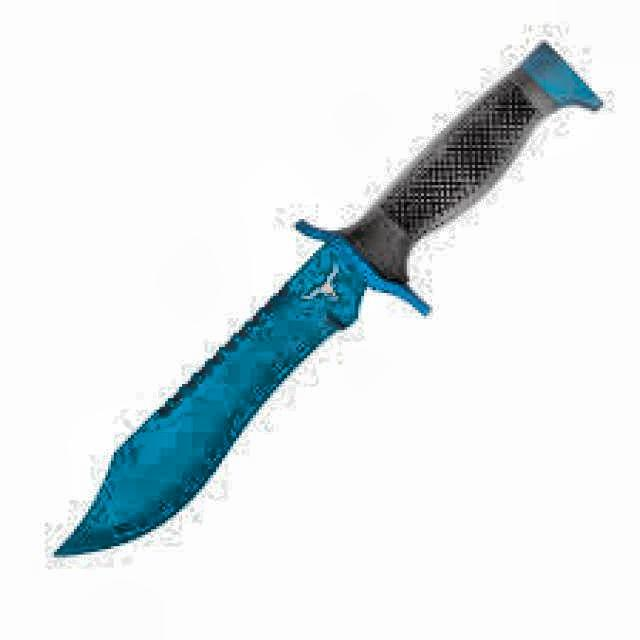knife: (44, 34, 606, 559)
